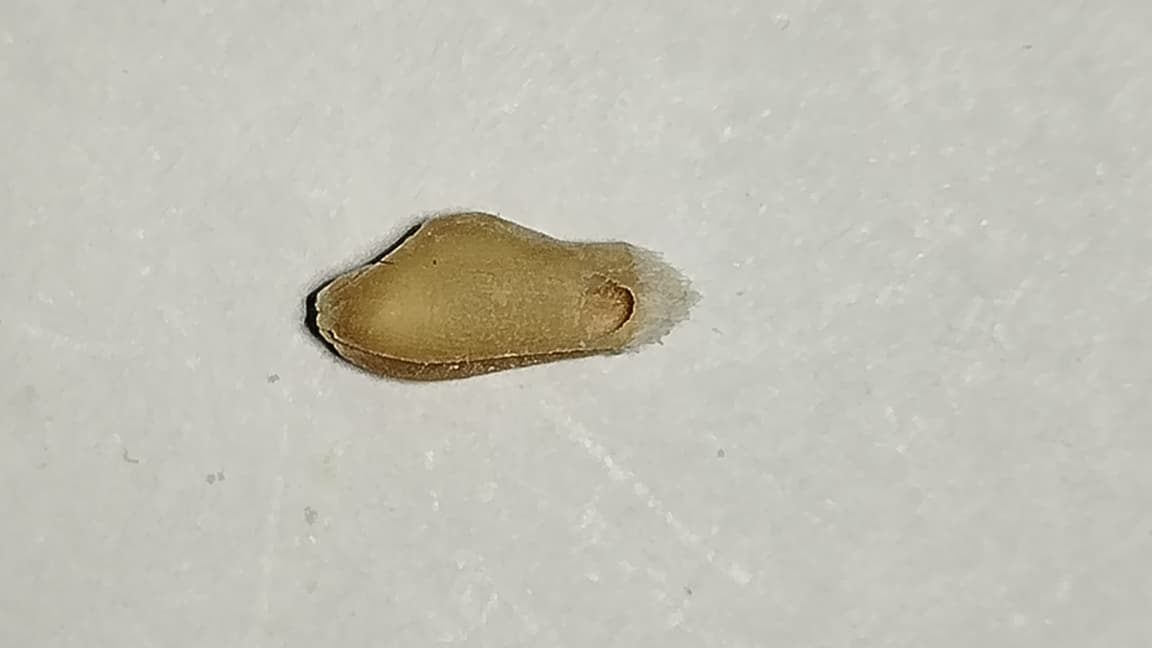damage: (318, 211, 693, 374)
insectdamage: (309, 210, 457, 292), (566, 270, 649, 340)
